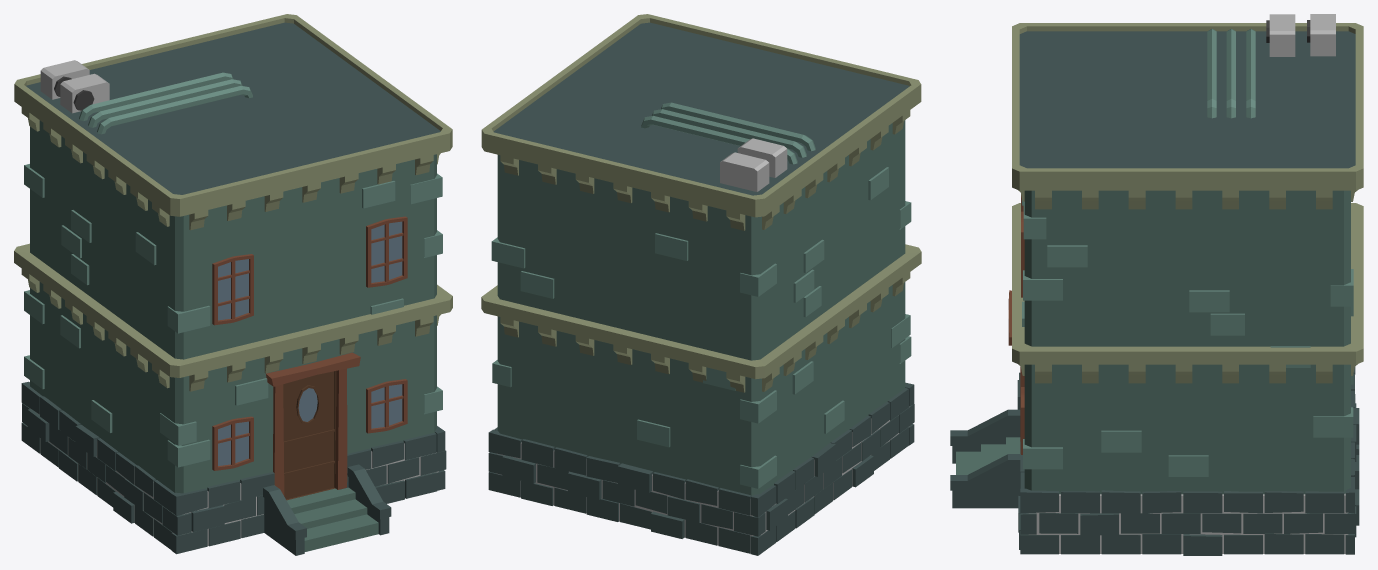
Rendered from 2Story_Stairs_Mat.gltf.
The picture shows the model from 3 angles, left to right: view 1: azimuth 30°, elevation 25°; view 2: azimuth 150°, elevation 25°; view 3: azimuth 270°, elevation 25°; orthographic projection. The views are drawn at different scales.
Parts seen in each view (by area): view 1: o 2Story_Stairs_Mat_Cube.041; view 2: o 2Story_Stairs_Mat_Cube.041; view 3: o 2Story_Stairs_Mat_Cube.041.
Part boxes in pixels (box(x1,y1,x2,y2)): o 2Story_Stairs_Mat_Cube.041: box(14, 14, 452, 555); o 2Story_Stairs_Mat_Cube.041: box(481, 14, 921, 555); o 2Story_Stairs_Mat_Cube.041: box(950, 14, 1363, 555).
Bounding box in the file's own units: 2.16 × 2.75 × 2.53.
